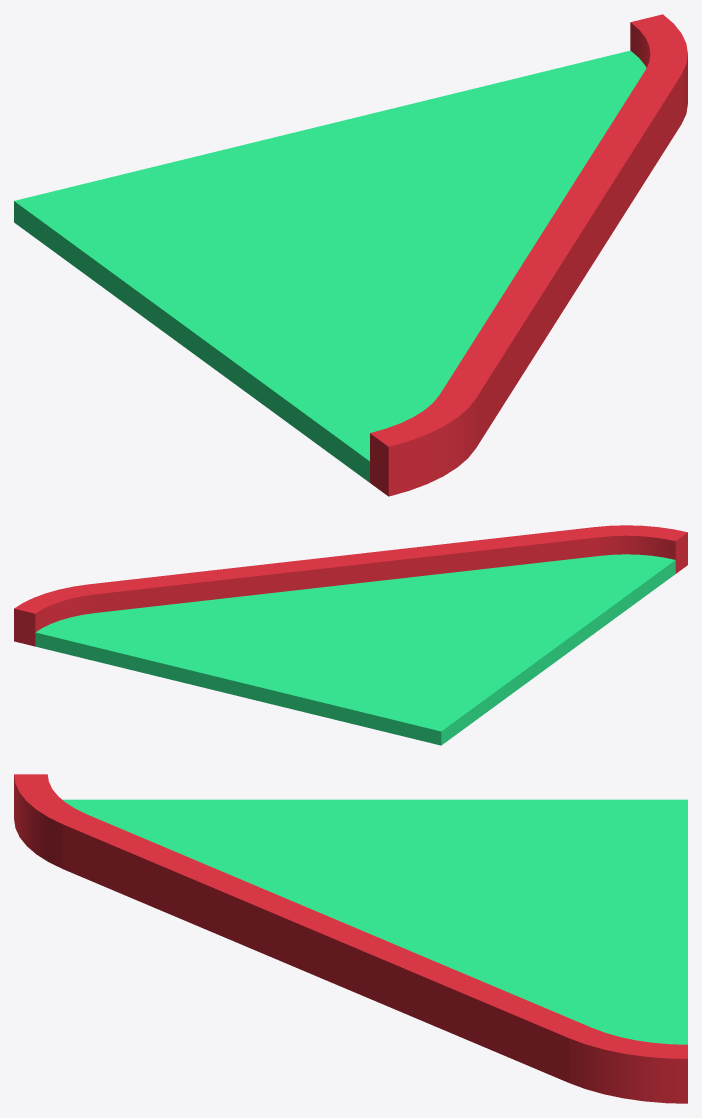
File: skewLargeCornerOpen.fbx
The picture shows the model from 3 angles, top to bottom: view 1: azimuth 30°, elevation 25°; view 2: azimuth 150°, elevation 25°; view 3: azimuth 270°, elevation 25°; orthographic projection. The views are drawn at different scales.
Visible parts, largest first — view 1: skewLargeCornerOpen; view 2: skewLargeCornerOpen; view 3: skewLargeCornerOpen.
Part boxes in pixels (bbox=[...]): skewLargeCornerOpen: bbox=[14, 14, 687, 496]; skewLargeCornerOpen: bbox=[14, 525, 687, 745]; skewLargeCornerOpen: bbox=[14, 774, 687, 1103].
Bounding box in the file's own units: 20 × 1.47 × 20.
